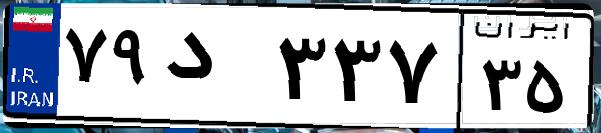3: (270, 28, 330, 110), (330, 28, 385, 110), (475, 38, 525, 113)
5: (525, 38, 570, 115)
7: (385, 28, 445, 110), (57, 26, 110, 100)
9: (110, 28, 158, 98)
د: (158, 20, 270, 120)
